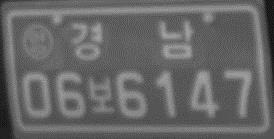0: (21, 71, 54, 120)
1: (153, 69, 181, 120)
4: (187, 70, 221, 118)
6: (55, 70, 87, 121), (117, 70, 149, 120)
7: (223, 68, 255, 120)
경남_D: (68, 16, 196, 62)
보: (86, 74, 117, 116)
영: (21, 22, 56, 62)
